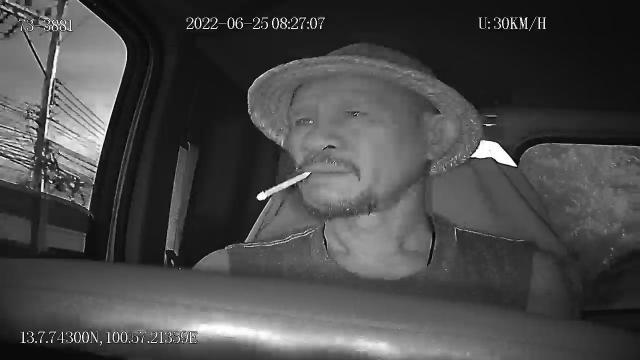SafeDriving: (338, 100, 376, 126), (290, 107, 322, 131)
Smoking: (256, 170, 312, 202)
